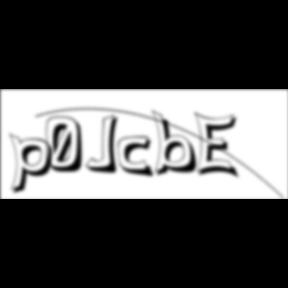0: (46, 115, 90, 174)
E: (194, 110, 243, 182)
J: (86, 114, 124, 176)
b: (152, 109, 204, 179)
c: (118, 136, 158, 180)
p: (9, 132, 59, 198)
